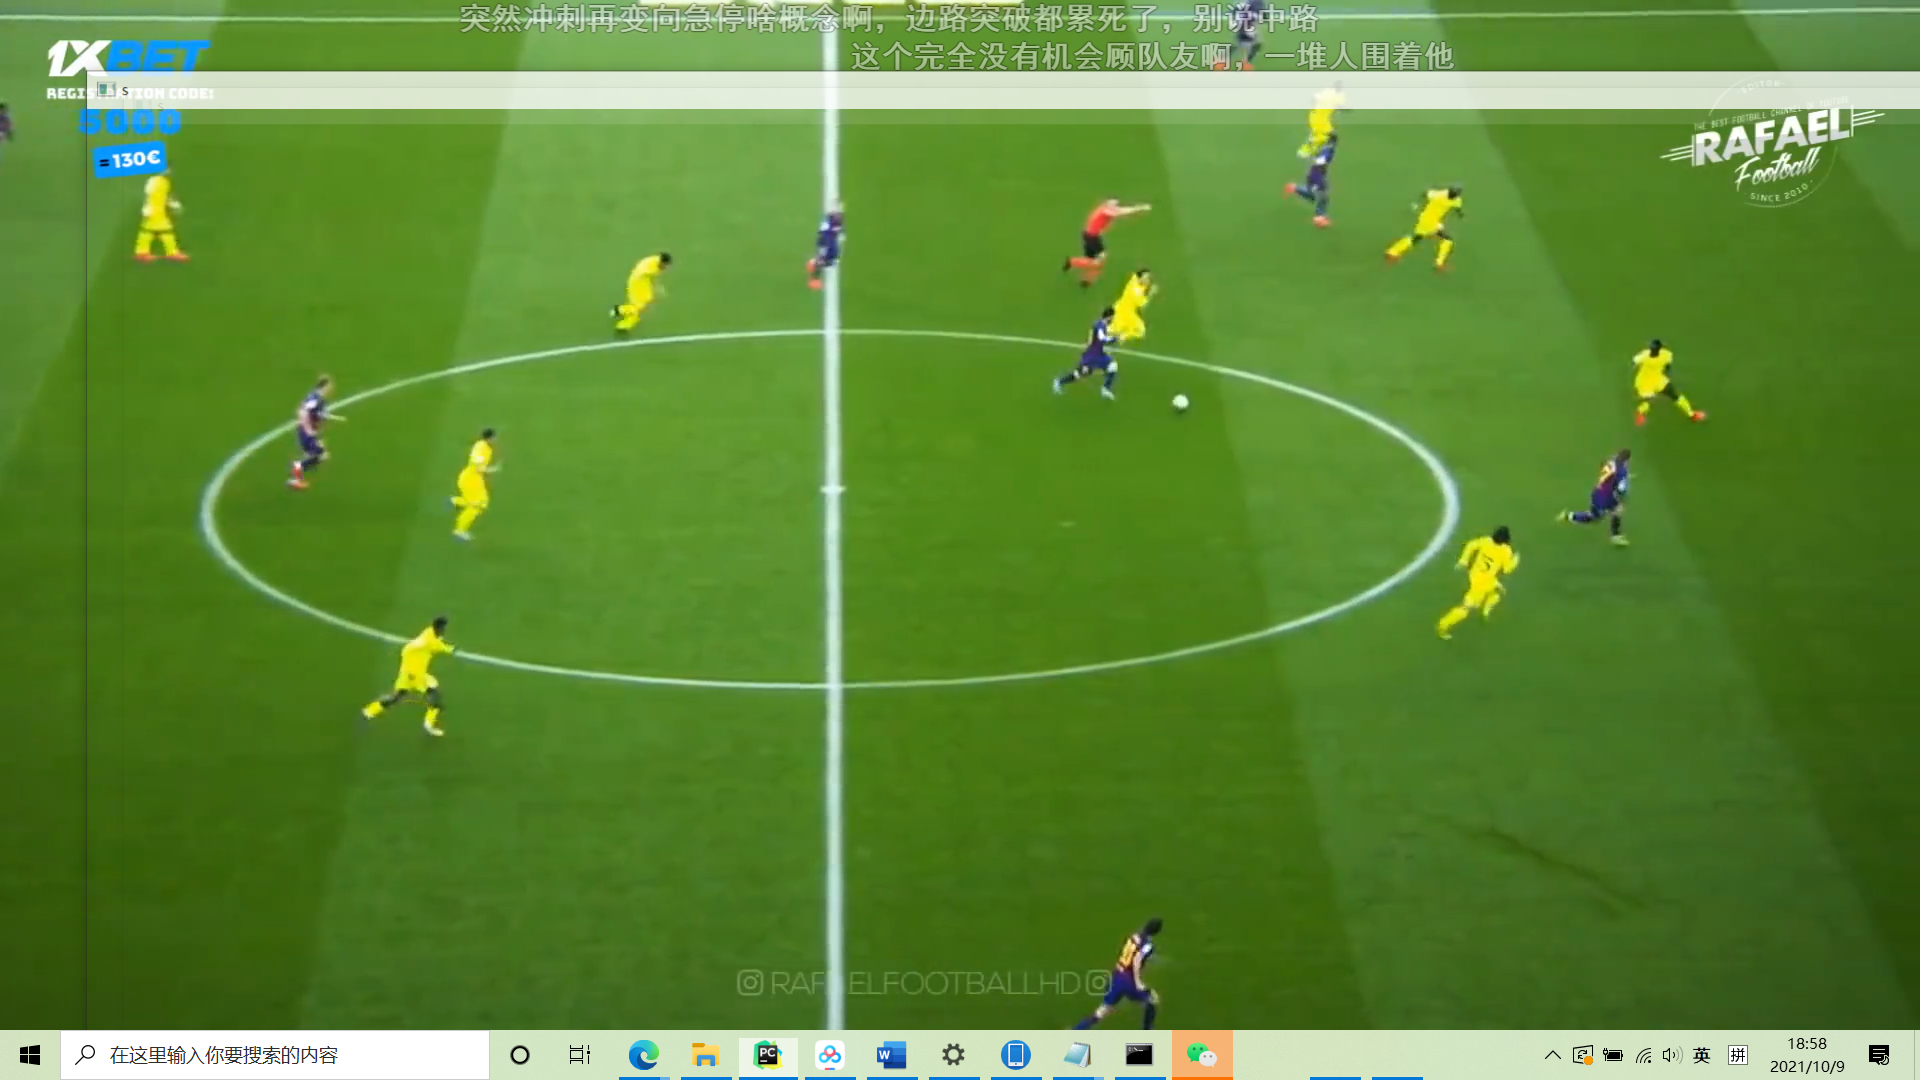ft: (1172, 392, 1189, 413)
